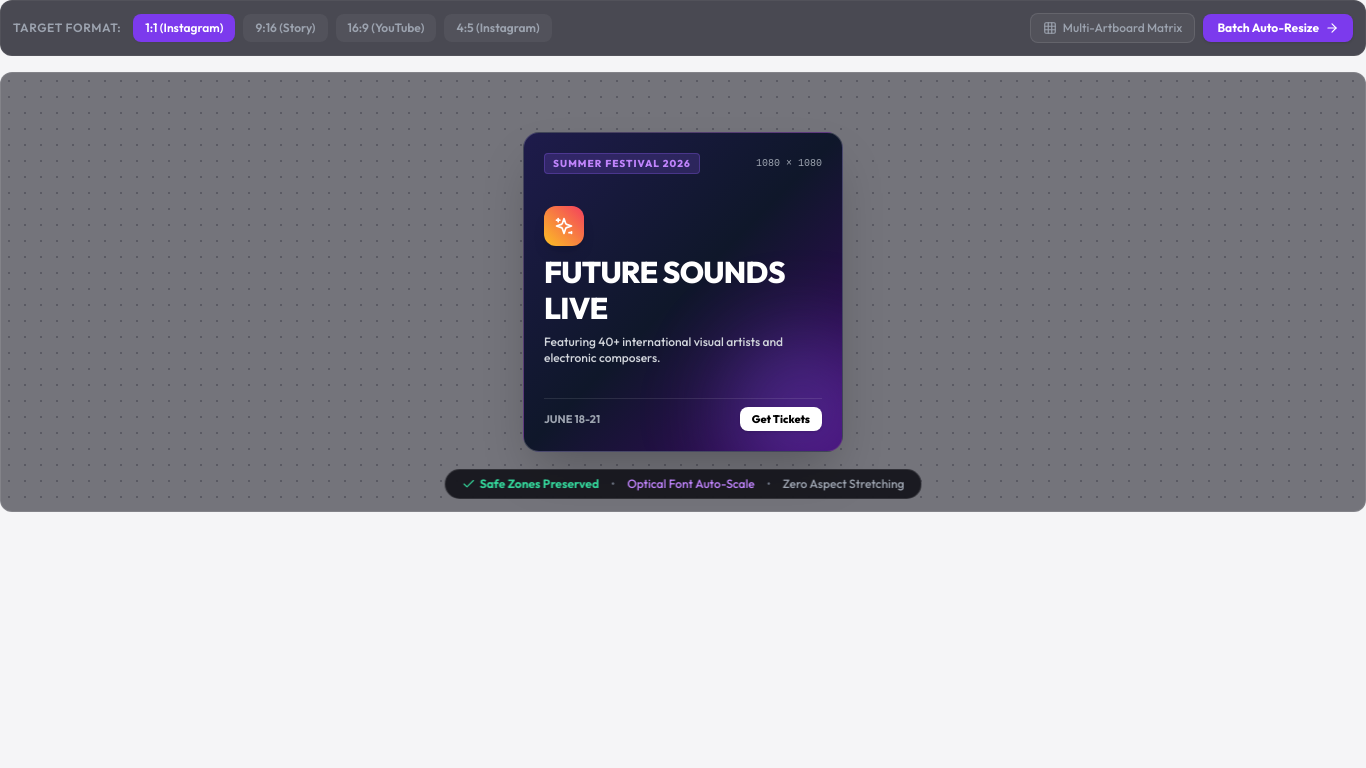
Test: Creative Tool Landing Pages & Interactive Feature Demos › Isolated Interactive Demos › SmartResizeDemo toggles between focused and matrix views
Click the button "Multi-Artboard Matrix". click: (1113, 28)
box: [1030,13,1196,43]
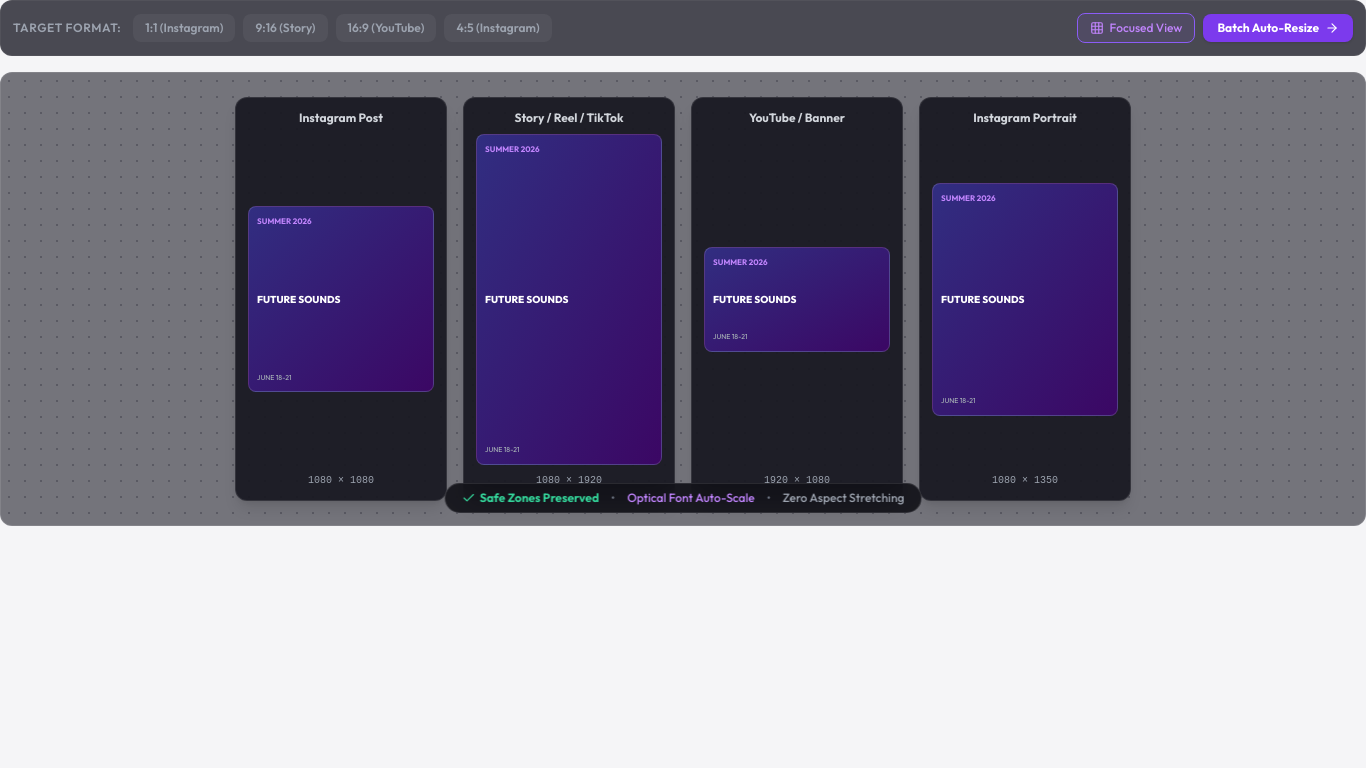
Expected: the text "Focused View" is shown, [1110,20,1182,36]
